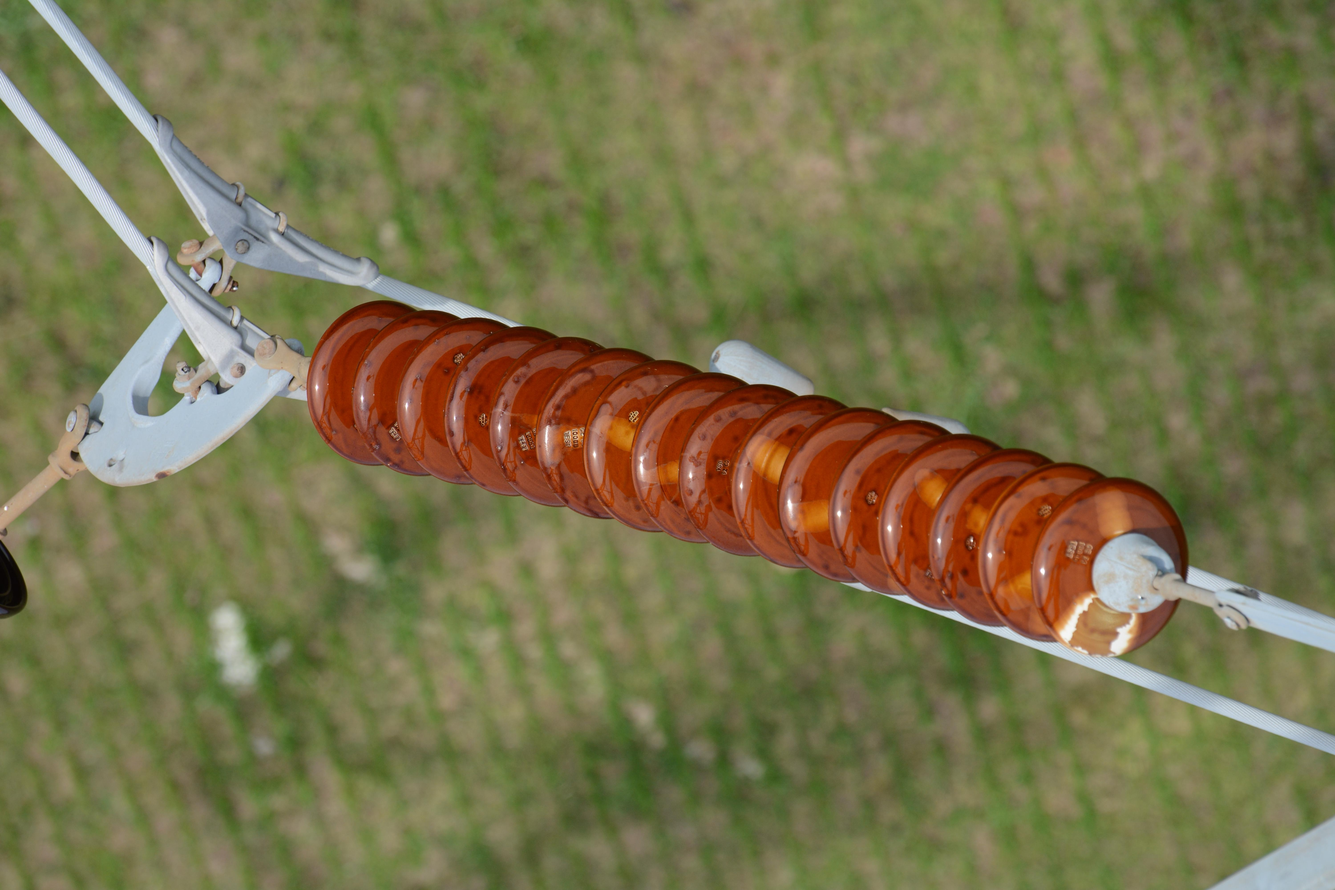Flashover: (1058, 592, 1137, 656), (1093, 483, 1137, 540), (747, 433, 793, 481), (540, 421, 584, 469), (996, 567, 1043, 610), (909, 468, 954, 510), (785, 498, 836, 535), (637, 452, 685, 491), (593, 414, 641, 451), (955, 499, 996, 539)
hammer: (715, 343, 970, 437)
insulator: (305, 301, 1176, 661)
